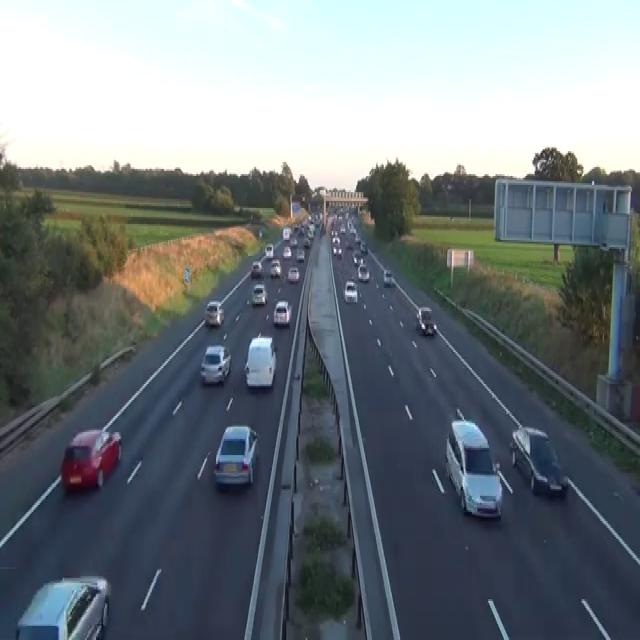Car: (444, 411, 502, 519), (15, 574, 109, 638), (509, 425, 568, 496), (61, 426, 121, 491), (213, 423, 260, 489), (244, 332, 276, 390), (199, 345, 231, 386), (415, 306, 436, 334), (204, 301, 224, 327), (273, 301, 292, 327), (251, 282, 267, 306), (344, 279, 358, 302), (269, 258, 281, 277), (287, 265, 299, 283), (250, 260, 262, 278), (357, 263, 369, 281), (417, 306, 432, 320), (422, 322, 436, 336), (352, 250, 364, 266), (383, 268, 392, 284), (264, 242, 273, 258), (332, 245, 342, 258), (282, 246, 291, 260), (282, 228, 291, 240), (306, 224, 315, 236), (296, 249, 304, 261), (359, 240, 367, 252), (331, 235, 340, 245), (289, 237, 297, 247), (319, 222, 325, 235), (358, 256, 365, 267), (303, 237, 310, 247), (354, 233, 361, 243), (339, 224, 345, 235), (293, 224, 299, 233), (258, 230, 262, 238)
